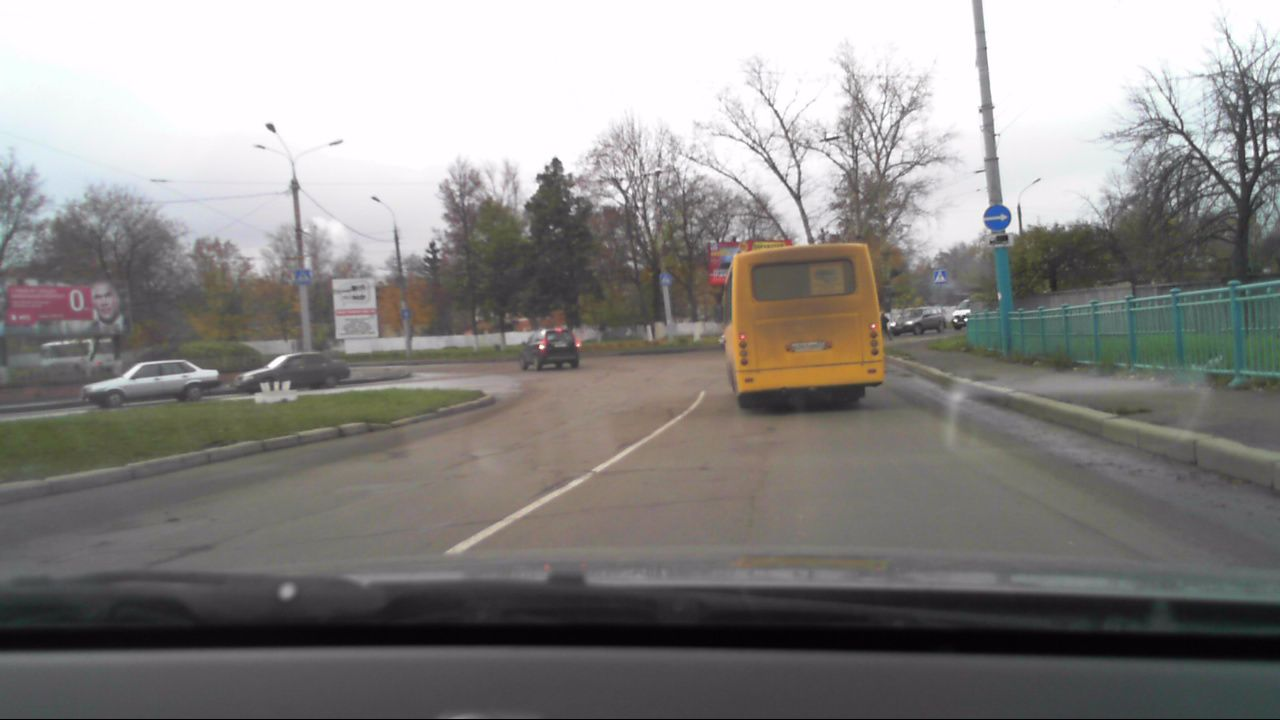Turn Right: (983, 205, 1012, 232)
